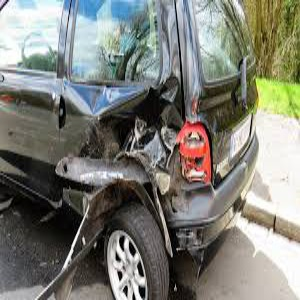bumper: (83, 88, 174, 199)
tail_lights: (173, 114, 216, 189)
